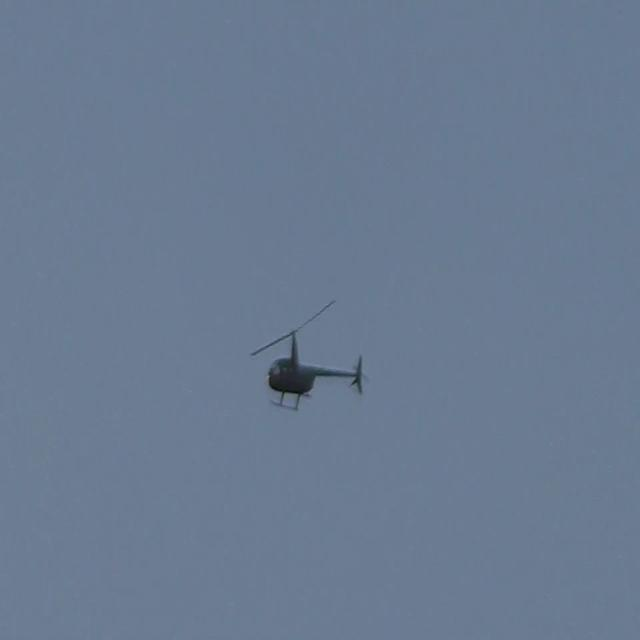CIV_HELO: (267, 331, 363, 412)
